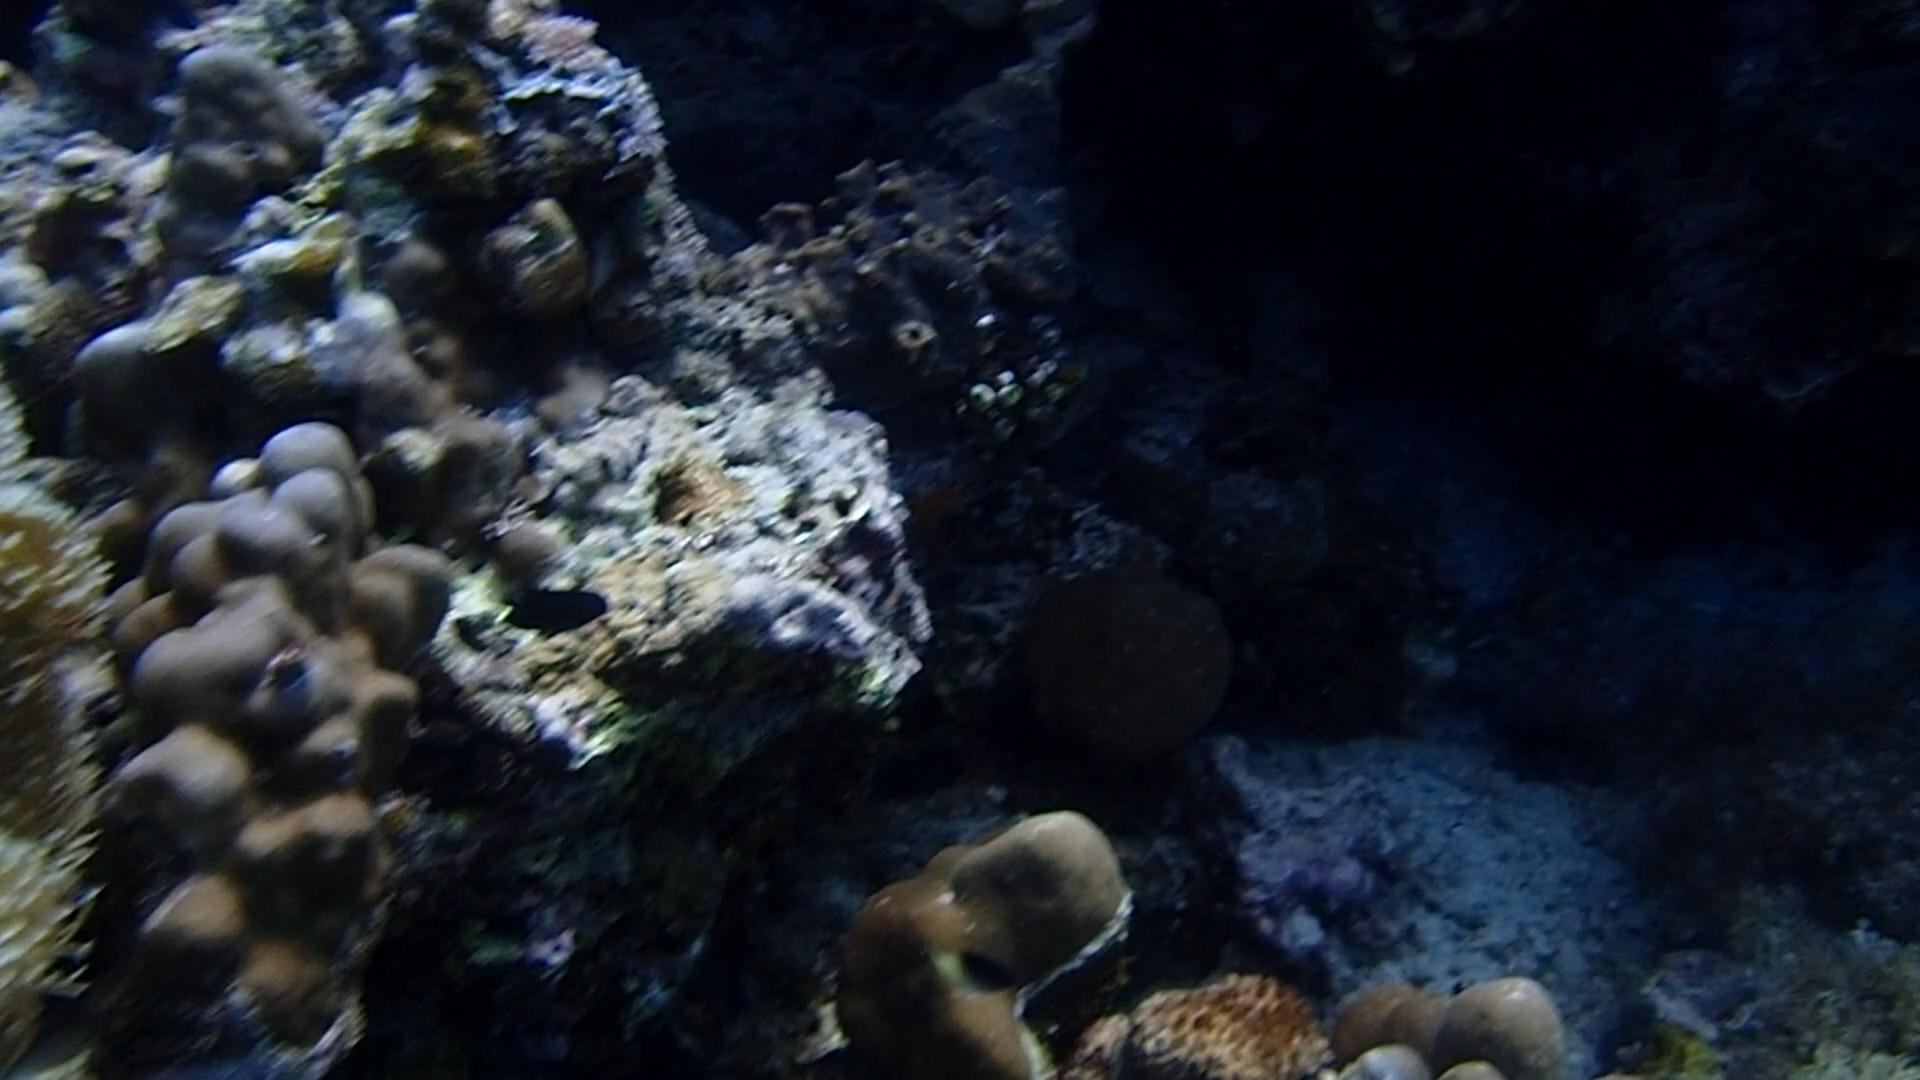Dark Fish: (498, 578, 617, 645)
Yellow Tail: (909, 939, 1026, 1009)
